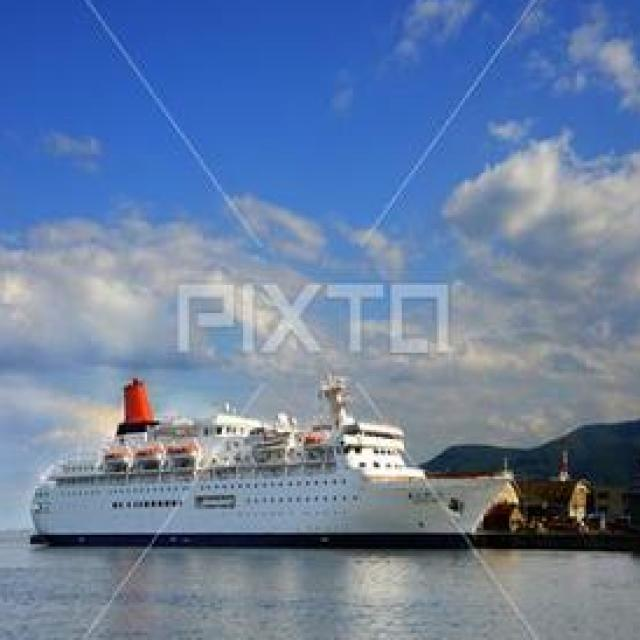cargoship: (21, 376, 488, 544)
